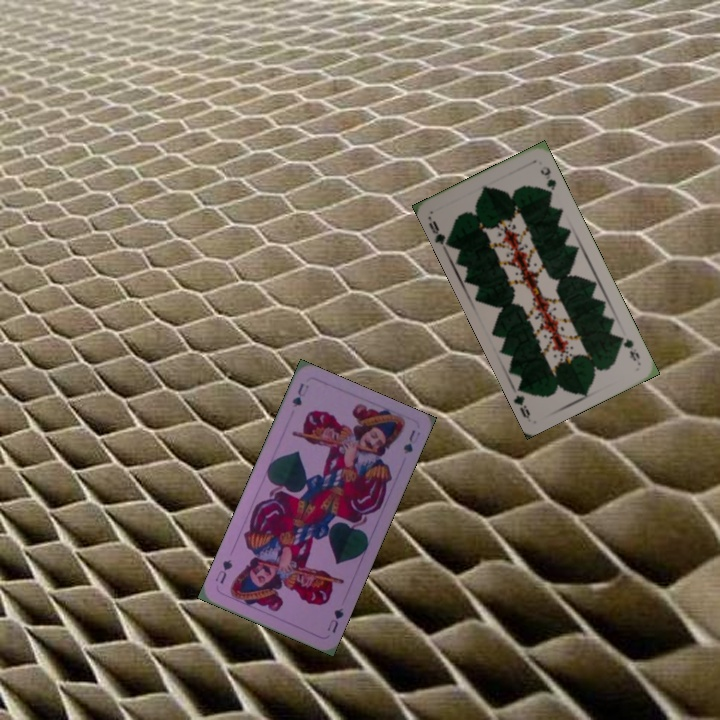G9: (424, 216, 452, 249), (615, 332, 642, 364)
GU: (288, 379, 312, 410), (323, 604, 346, 636)
